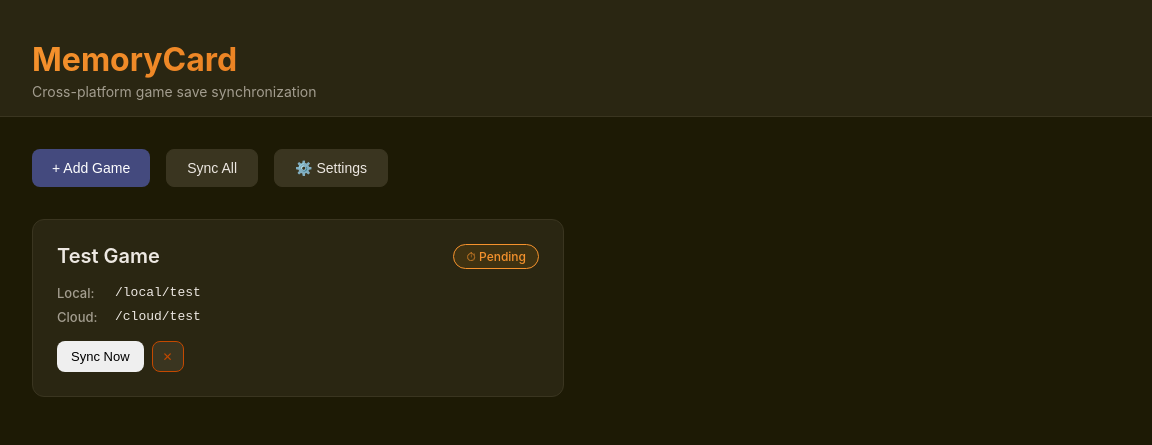
App › Sync Operations › updates game status after sync completes
expect the heading "Test Game" is shown: met, box [57,244,160,268]
expect the text "⏱ Pending" is shown: met, box [454,244,539,269]
# Click Sync All
What coordinates should you click on to do the following:
click the button "Sync All"
I would click on:
 (212, 168)
Its box is [166,149,258,187].
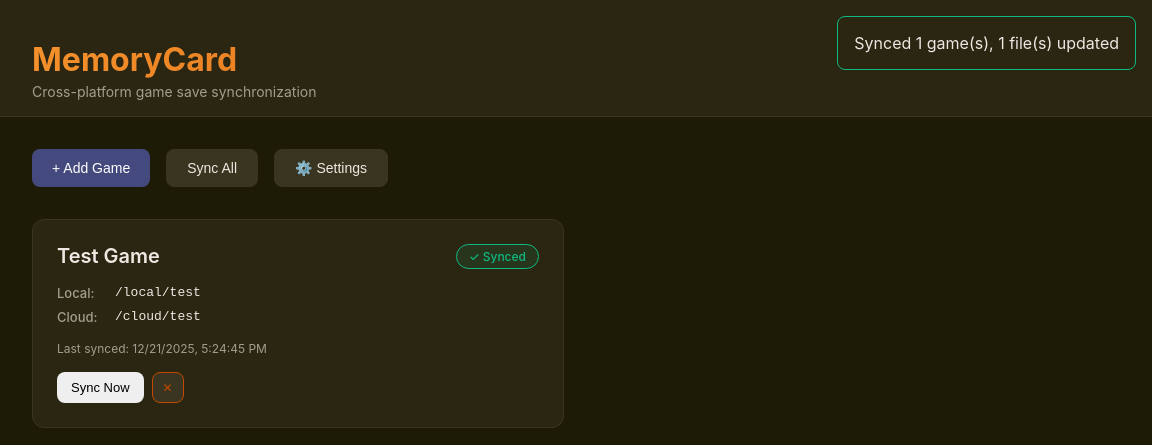
expect the text "✓ Synced" is shown: met, box [456,244,539,269]
